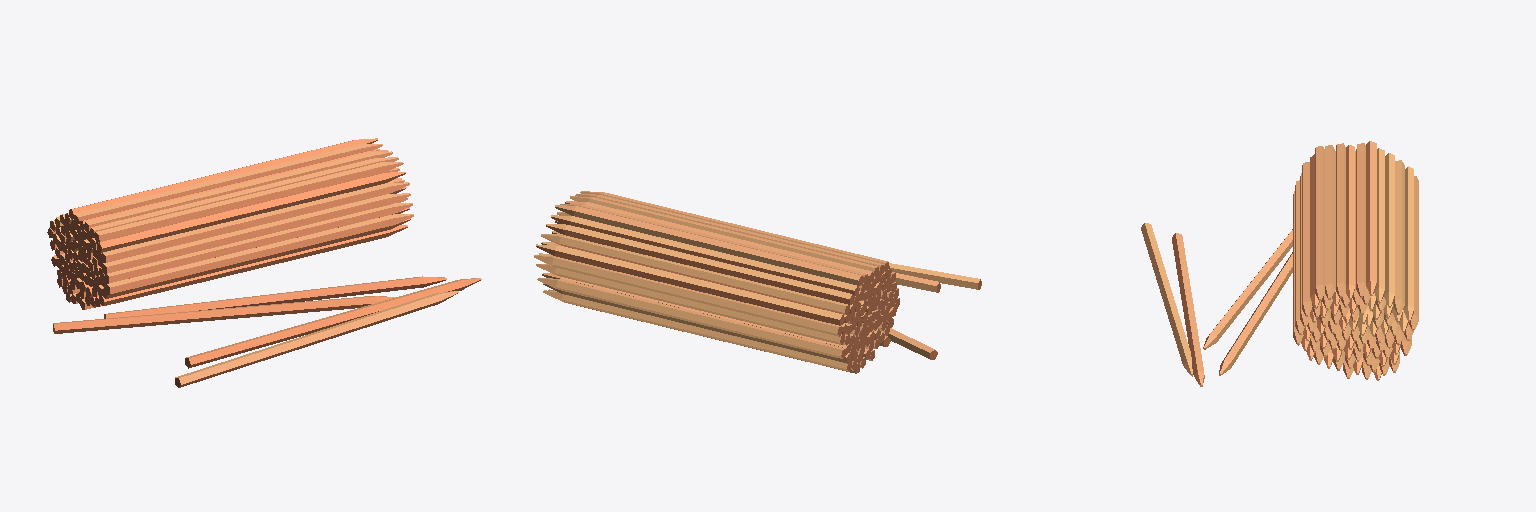
Rendered from bamboo_skewers.obj.
3 renders of one model, left to right at view 1: azimuth 30°, elevation 25°; view 2: azimuth 150°, elevation 25°; view 3: azimuth 270°, elevation 25°, orthographic.
Visible parts, largest first — view 1: pCylinder99 group1, group1 pCylinder100, group1 pCylinder101, group1 pCylinder83, group1 pCylinder102; view 2: pCylinder99 group1, group1 pCylinder101, group1 pCylinder100; view 3: pCylinder99 group1, group1 pCylinder101, group1 pCylinder102, group1 pCylinder100, group1 pCylinder83.
Part boxes in pixels (x1,y1,x2,y2): pCylinder99 group1: (47, 138, 413, 309); group1 pCylinder100: (53, 296, 395, 333); group1 pCylinder101: (175, 291, 458, 387); group1 pCylinder83: (104, 276, 446, 318); group1 pCylinder102: (185, 278, 481, 368); pCylinder99 group1: (534, 191, 899, 373); group1 pCylinder101: (889, 263, 981, 289); group1 pCylinder100: (888, 328, 937, 359); pCylinder99 group1: (1293, 141, 1418, 380); group1 pCylinder101: (1141, 223, 1192, 376); group1 pCylinder102: (1172, 233, 1204, 386); group1 pCylinder100: (1203, 229, 1292, 349); group1 pCylinder83: (1219, 252, 1292, 375).
Bounding box in the file's own units: 130 × 31.71 × 84.17.